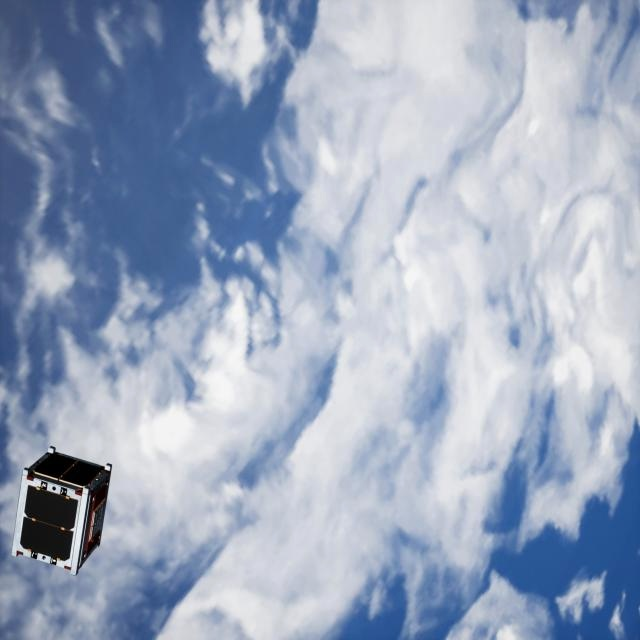satellite: (3, 448, 118, 572)
